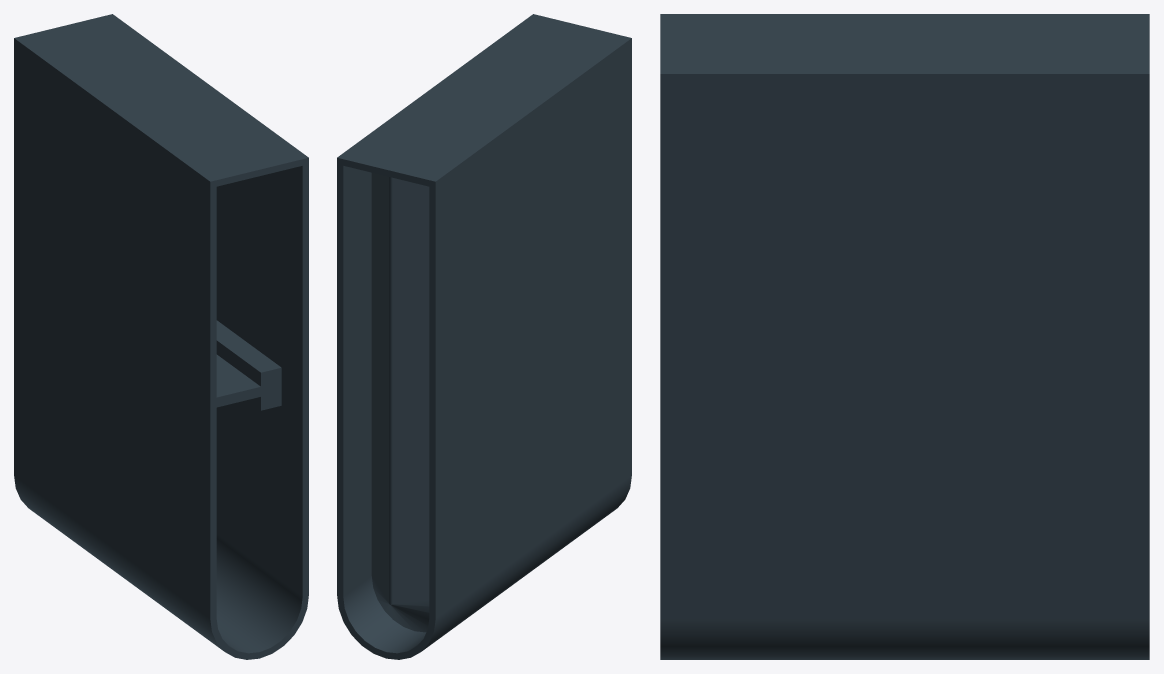
File: hamilton_1_trough_60mL_Vb.glb
3 renders of one model, left to right at view 1: azimuth 30°, elevation 25°; view 2: azimuth 150°, elevation 25°; view 3: azimuth 270°, elevation 25°, orthographic. The views are drawn at different scales.
Visible parts, largest first — view 1: hamilton_1_trough_60mL_Vb; view 2: hamilton_1_trough_60mL_Vb; view 3: hamilton_1_trough_60mL_Vb.
Boxes of the visible parts, <box> form: hamilton_1_trough_60mL_Vb: <box>14,14,308,659</box>; hamilton_1_trough_60mL_Vb: <box>337,14,631,659</box>; hamilton_1_trough_60mL_Vb: <box>660,14,1149,659</box>.
Bounding box in the file's own units: 0.019 × 0.09 × 0.0655.
